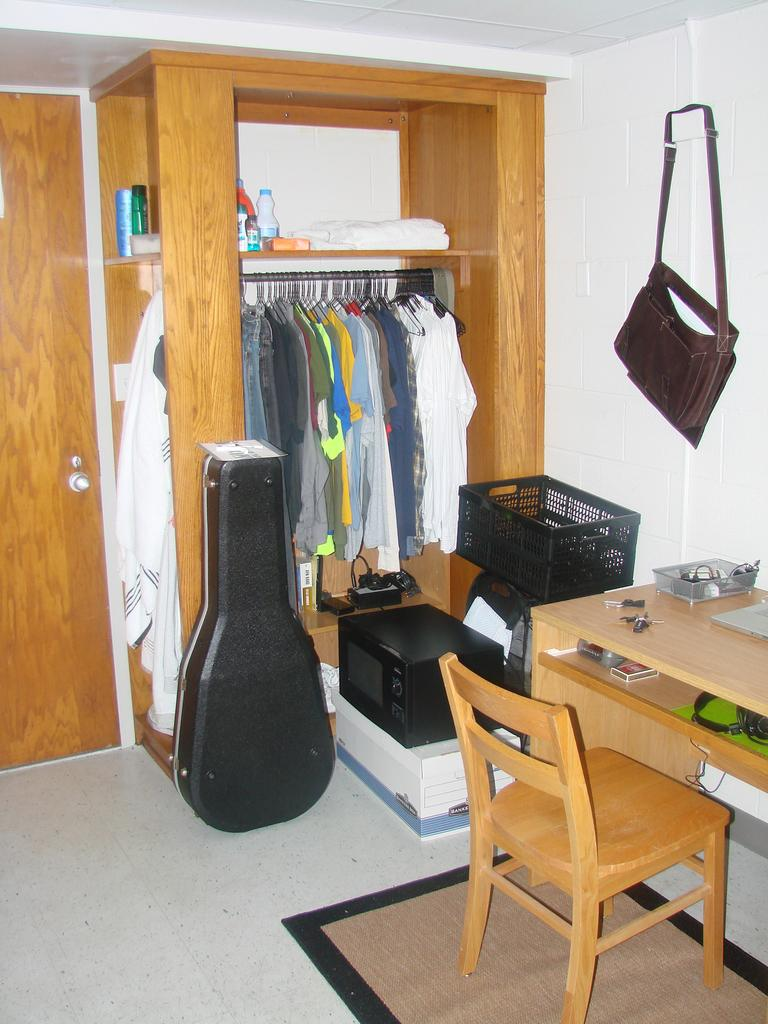Chair: (440, 622, 749, 1005)
